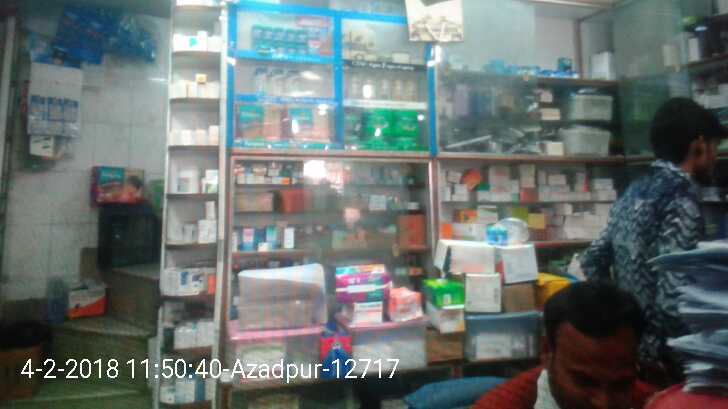vicks: (249, 23, 321, 62)
